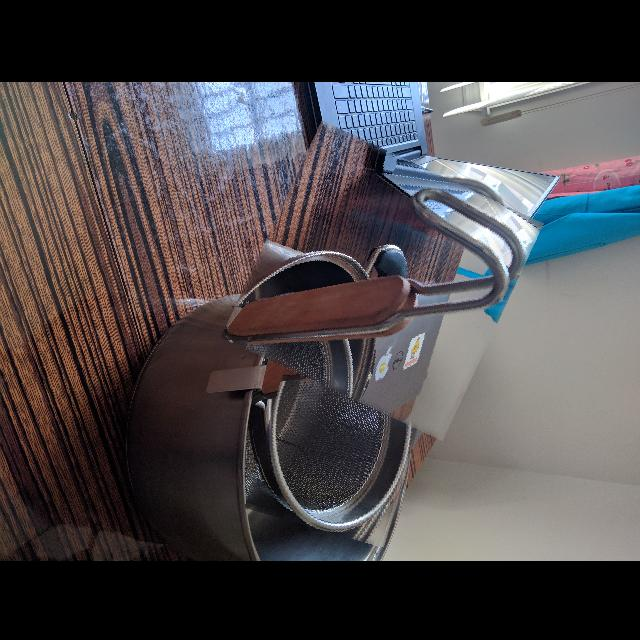Handle: (231, 185, 531, 343)
Strainer: (271, 359, 414, 528)
